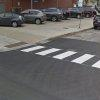Crosswalk: (23, 38, 99, 78)
